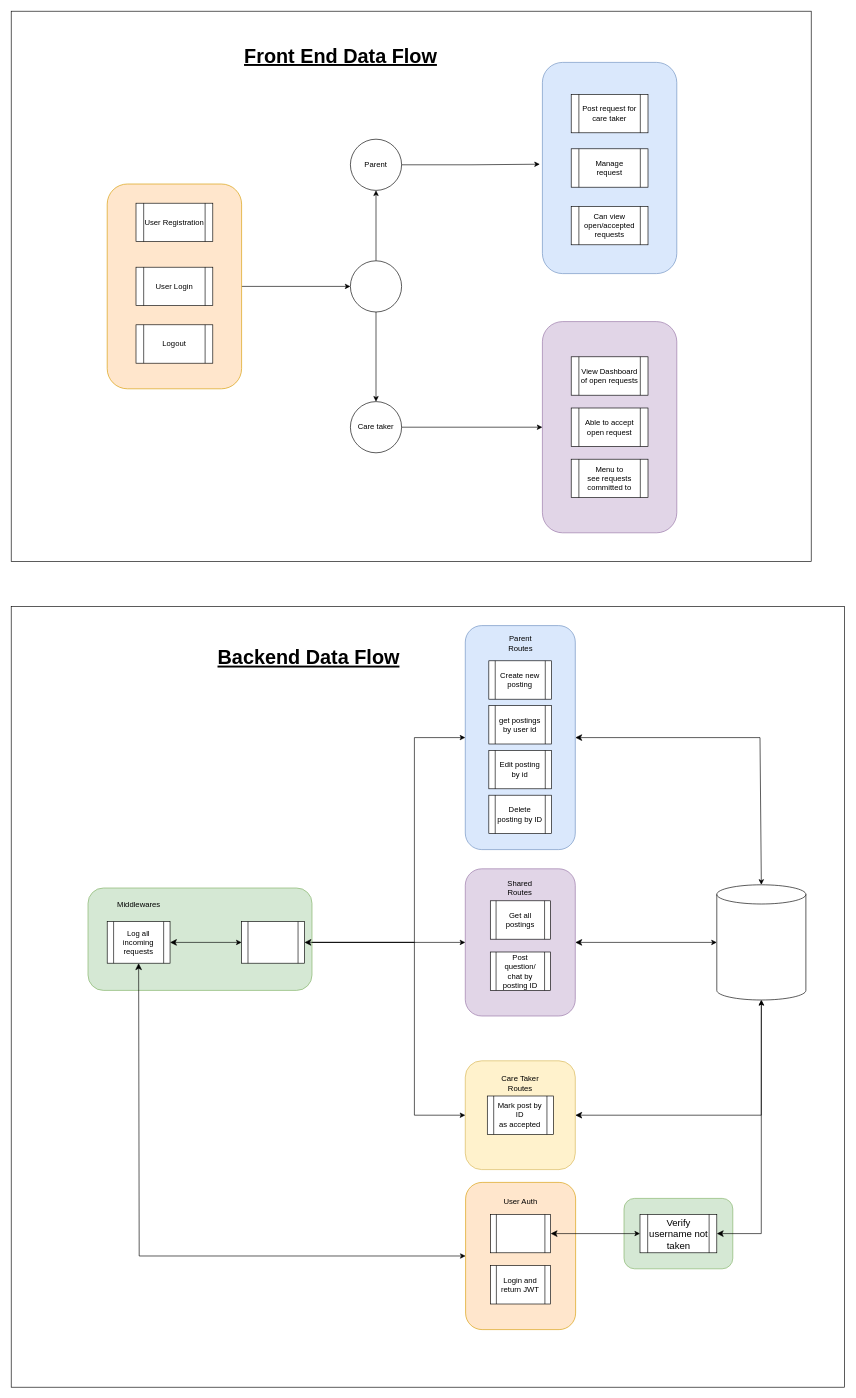
Some shapes in this 856 by 1398 pixel diagram are drawn without their labels. The box of each missing label's shape, as (x1, y1, x2, y2) in pixels:
Database: (716, 884, 806, 1000)
Logged in: (350, 260, 402, 312)
Sign up: (490, 1214, 551, 1253)
Verify JWT of User: (241, 921, 304, 963)
